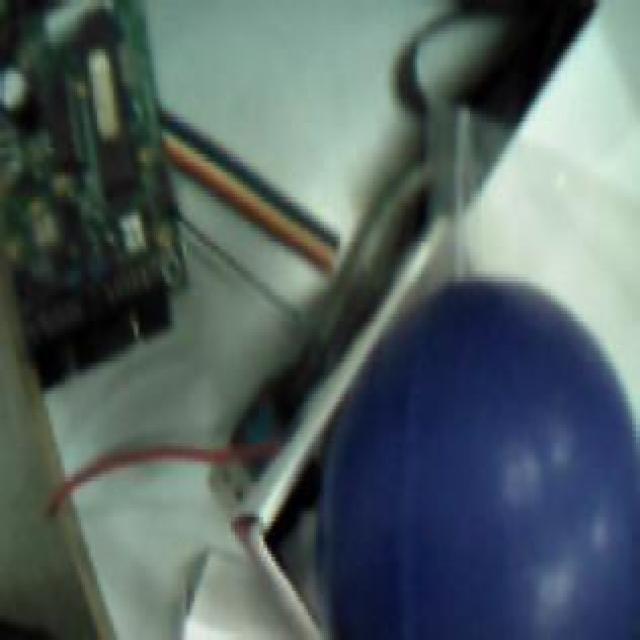BallPurple: (318, 277, 640, 640)
